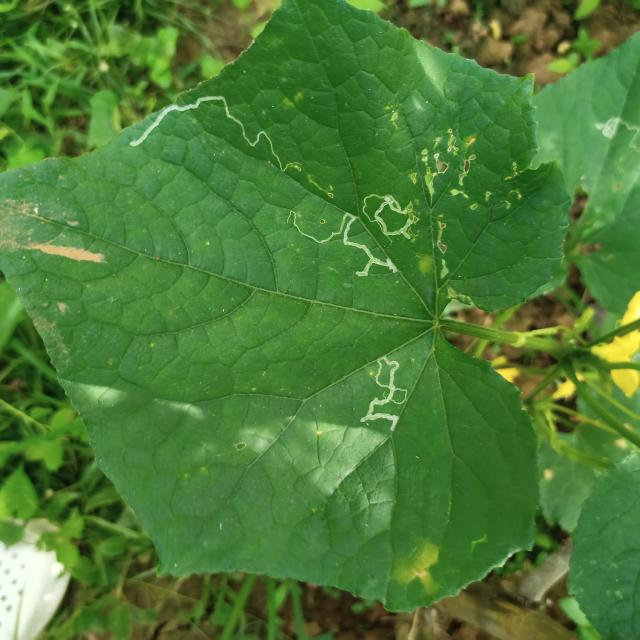disease_cucumber: (397, 541, 441, 597)
